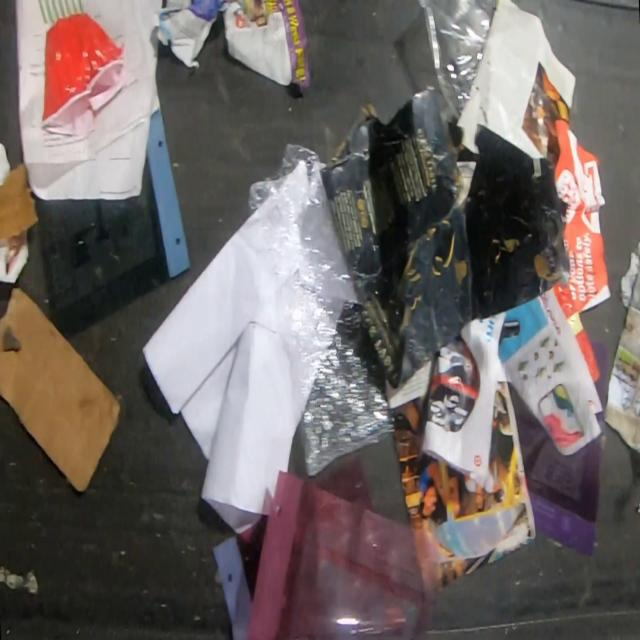cardboard: (323, 90, 572, 393), (0, 285, 122, 494), (0, 159, 39, 239)
rigid_plastic: (40, 11, 125, 137), (413, 0, 493, 129)
soft_plastic: (246, 141, 396, 477), (32, 106, 192, 337), (242, 464, 439, 640), (210, 512, 267, 640), (318, 454, 374, 510)
